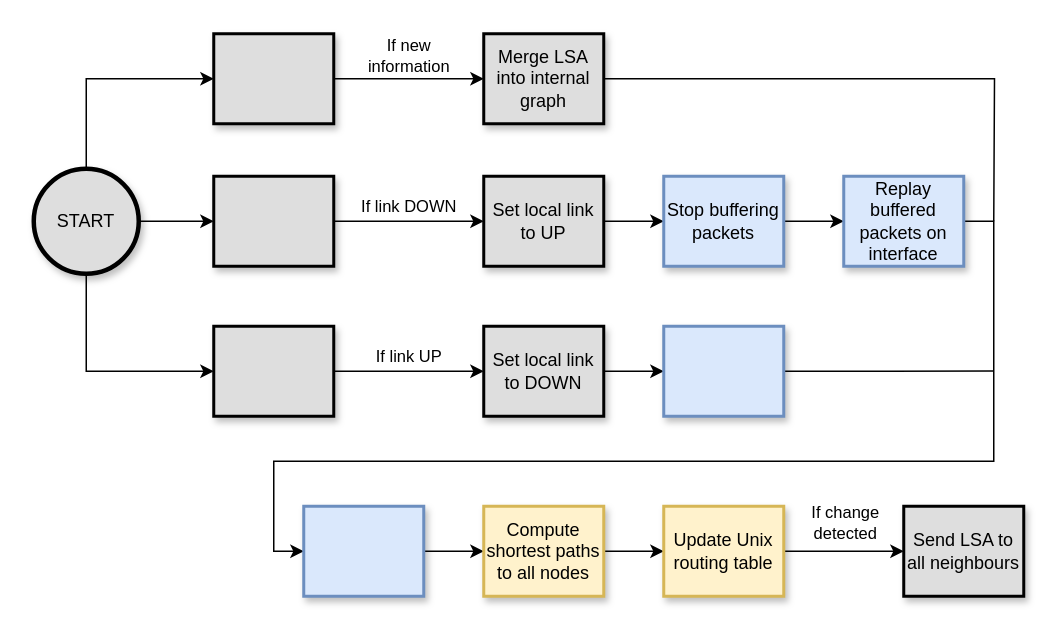
Image size: 1061x633. Some labels were removed from this diagram. Each missing label, with the centre of its shape:
"Compute local link metrics, copy to global graph" belongs at (x=365, y=553).
"Heartbeat Timeout" belongs at (x=275, y=373).
"Receive Heartbeat" belongs at (x=275, y=223).
"Receive LSA" belongs at (x=275, y=80).
"Start buffering incoming packets" belongs at (x=725, y=373).
